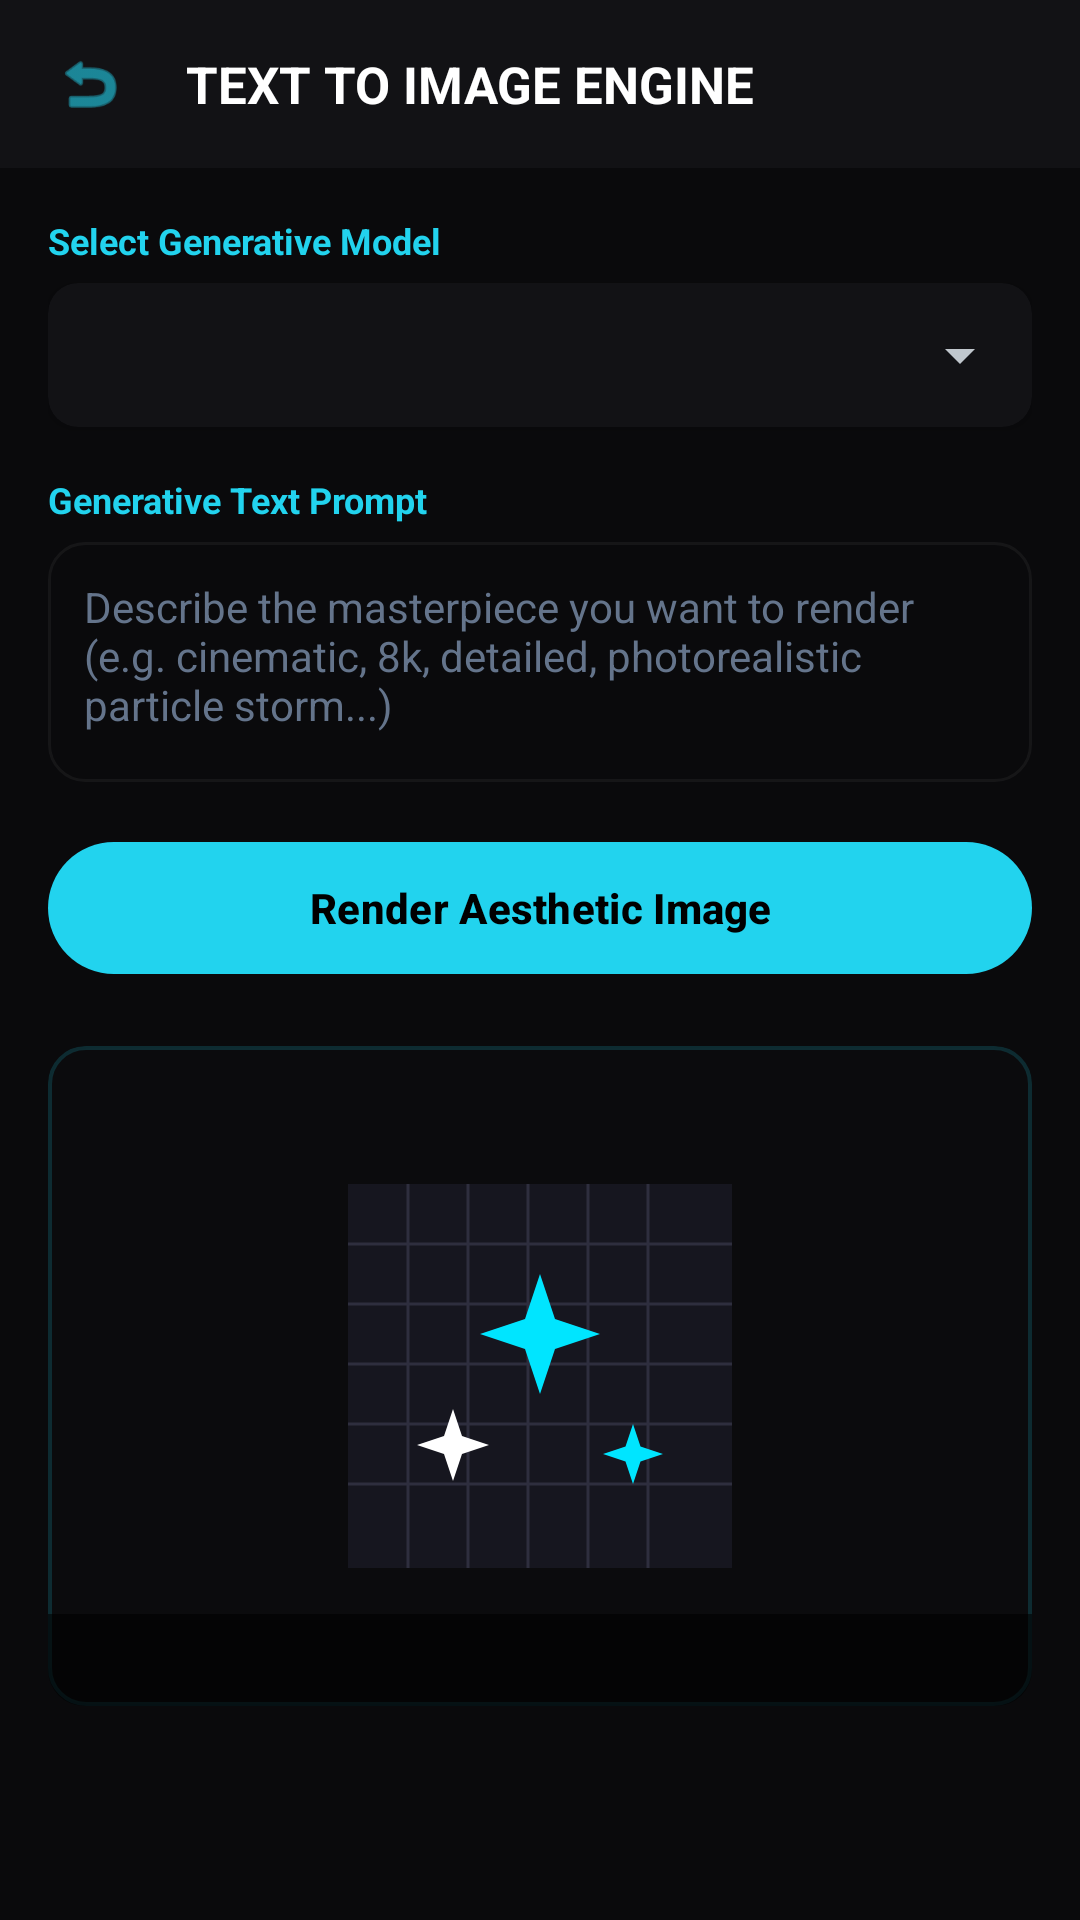

Screen size 1080*1920. Icon name, then its box in pixels as (x1, y1, x2, y2):
Go Back: (65, 61, 117, 108)
